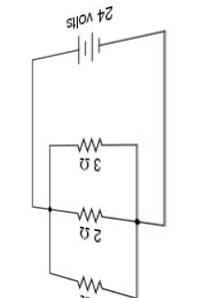resistor: (65, 124, 115, 153), (71, 263, 113, 296), (71, 202, 114, 223)
